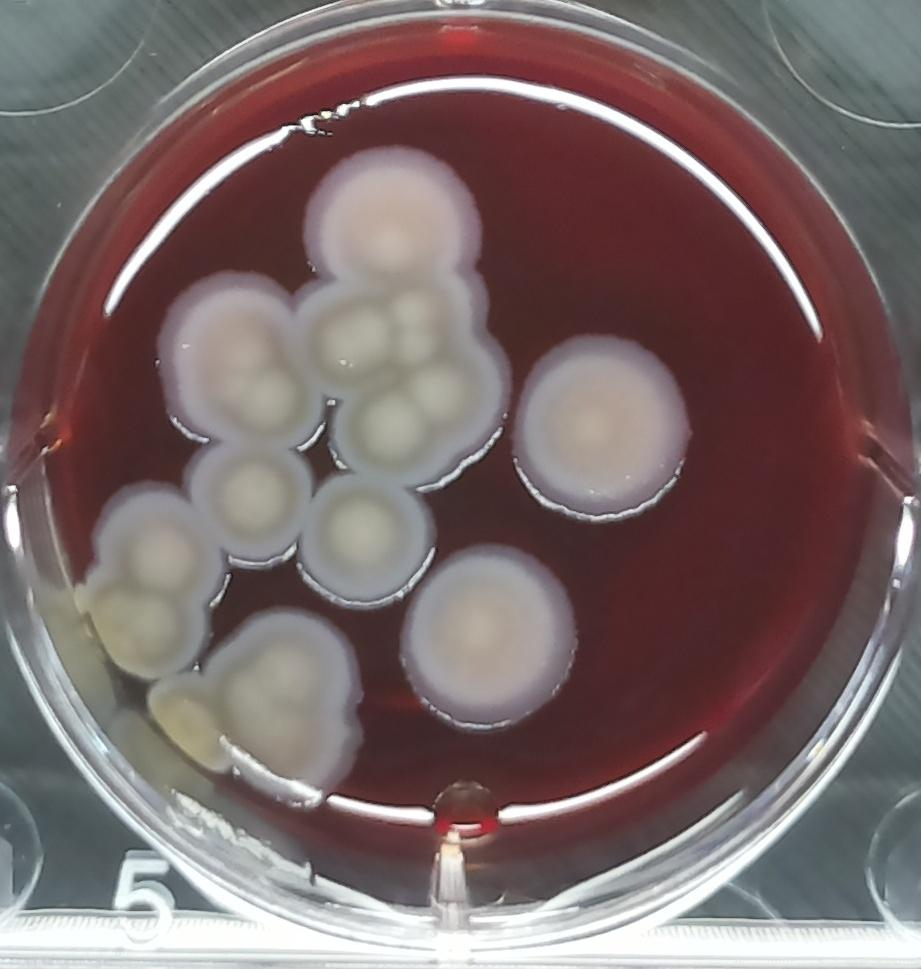bcereus: (501, 325, 696, 536), (395, 539, 586, 737), (215, 599, 367, 821), (297, 136, 484, 288), (165, 273, 320, 453), (296, 473, 438, 609), (89, 477, 230, 612), (179, 437, 311, 573), (360, 254, 484, 383), (413, 325, 524, 458), (72, 573, 211, 678), (286, 284, 402, 392), (332, 383, 438, 486), (145, 670, 237, 786)
